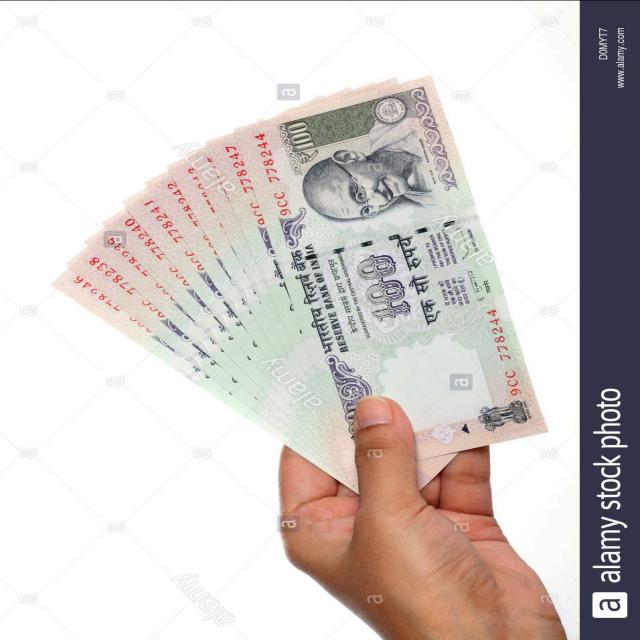100IndianRupees: (247, 74, 558, 468)
